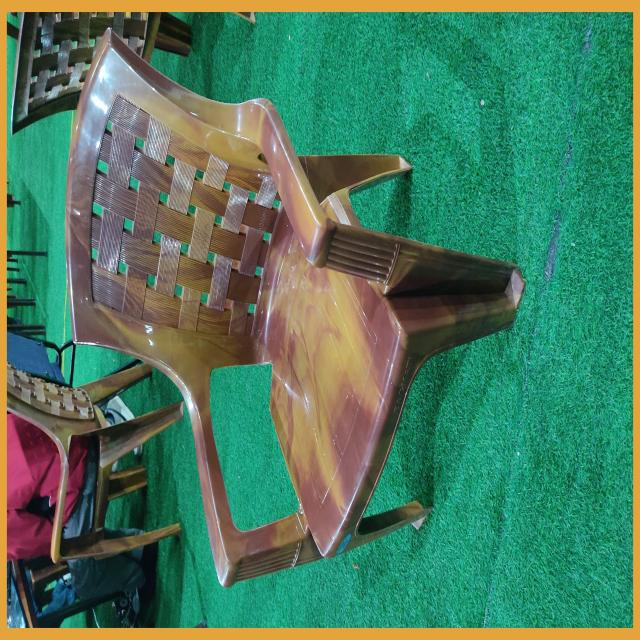Camer Stand: (62, 26, 526, 588)
